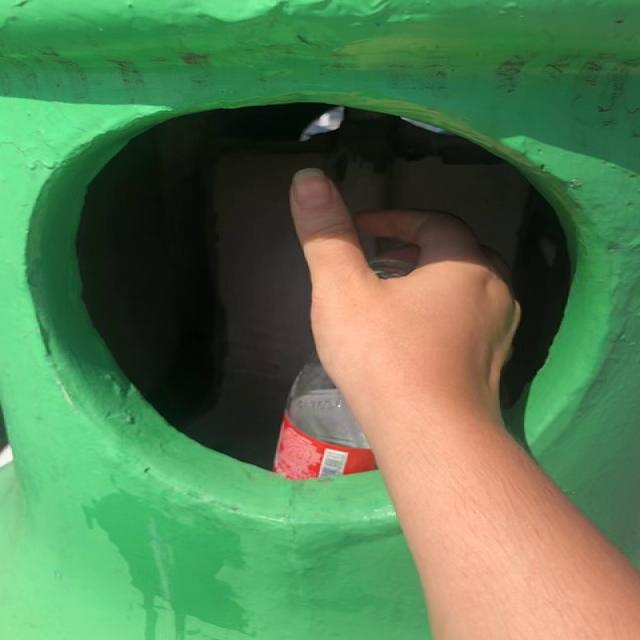glass: (273, 356, 377, 480), (372, 259, 416, 279)
